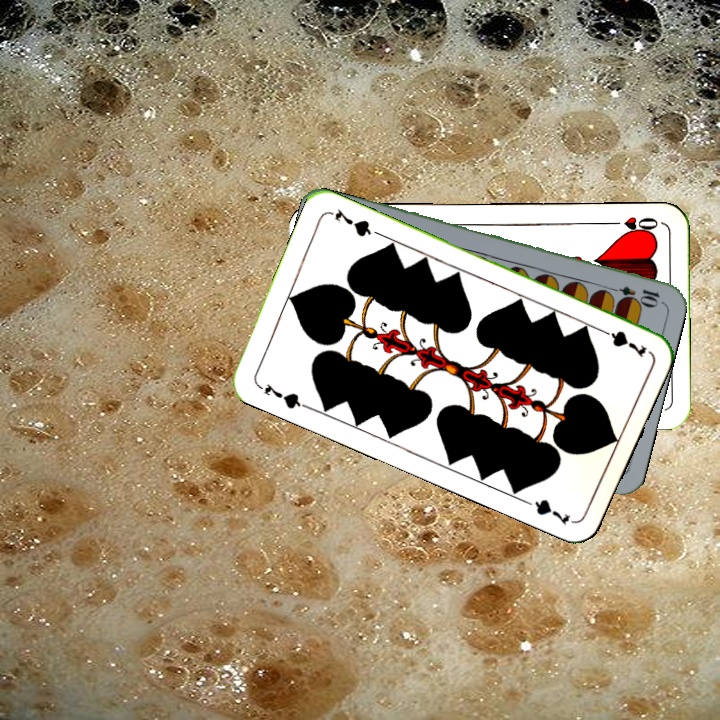E10: (603, 281, 662, 307)
G7: (593, 324, 650, 361), (253, 379, 309, 412)
HO: (604, 212, 661, 235)
